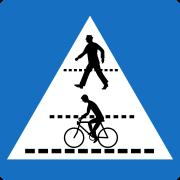Cycle Crossing: (24, 82, 168, 165)
